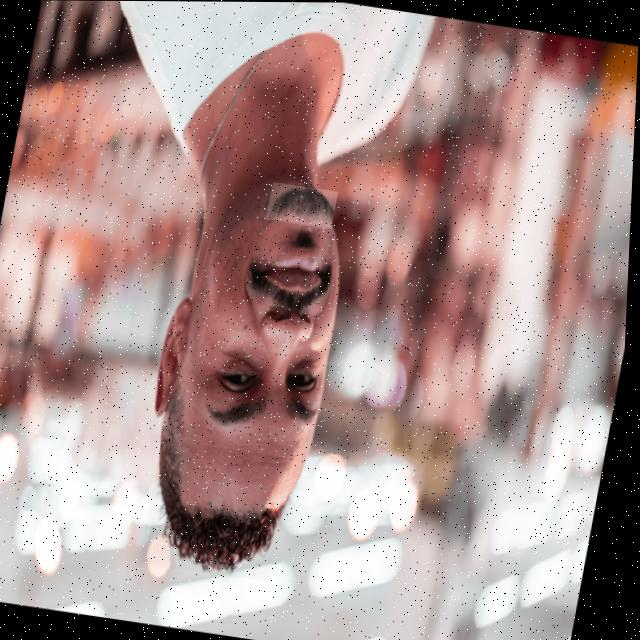beard: (251, 266, 331, 308), (269, 185, 334, 221)
hair: (164, 440, 287, 571)
